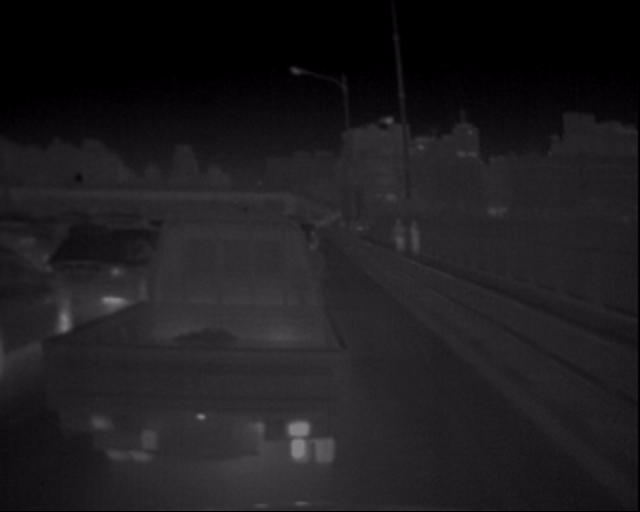person: (395, 212, 426, 262)
